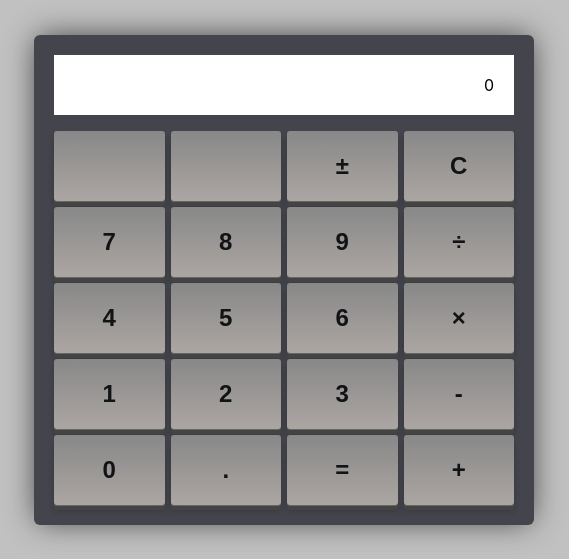
Test: Basic calculations › the numbers are minuses correctly
expect the text with test id "calculator-display-input" reads "0": met, box [484, 75, 494, 95]
Click the button with test id "calculator-key-5" at (226, 318), box [170, 283, 281, 353]
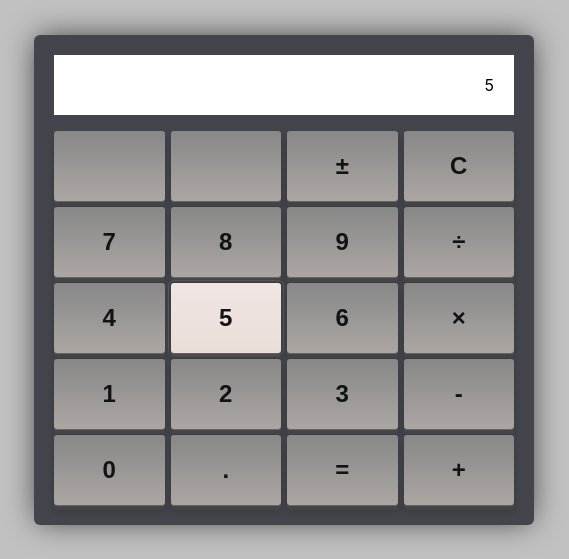
Click the button with test id "calculator-operator-minus" at (459, 394), box [404, 359, 514, 429]
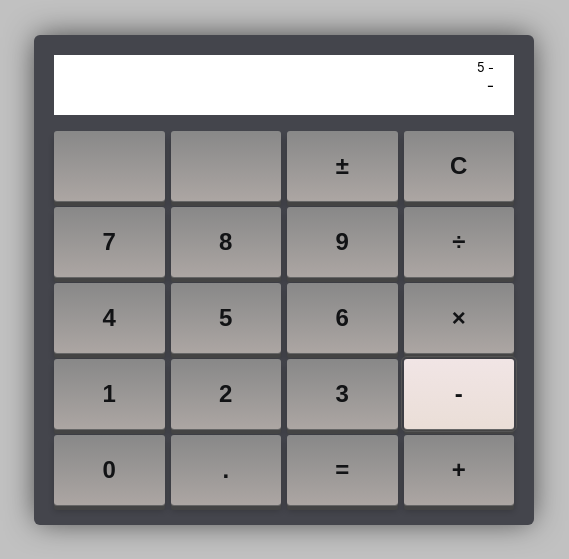
Click the button with test id "calculator-key-2" at (226, 394), box [170, 359, 281, 429]
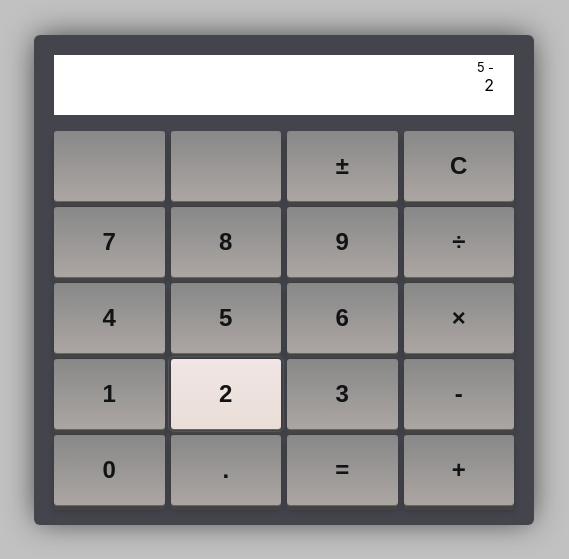
Click the button with test id "calculator-key-equals" at (342, 470), box [287, 435, 398, 505]
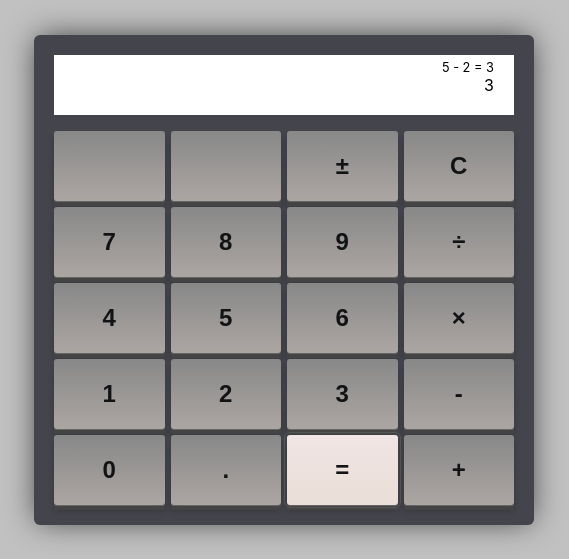
expect the text with test id "calculator-display-input" reads "3": met, box [484, 75, 494, 95]
